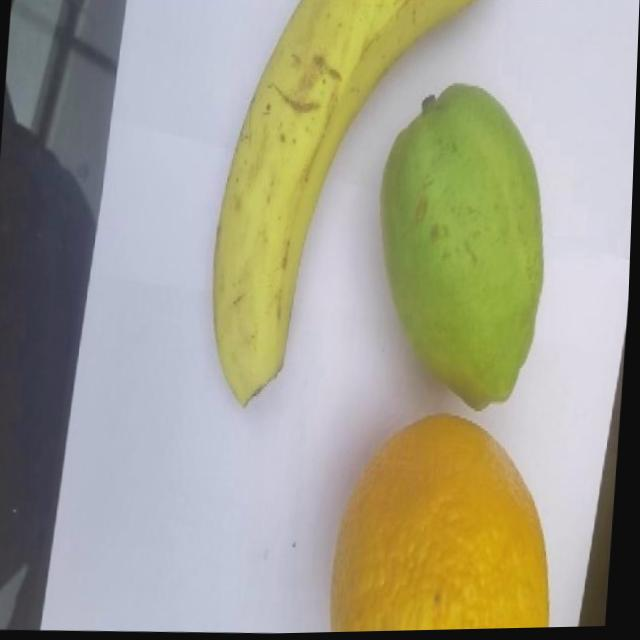Banana: (206, 0, 479, 416)
Orange: (331, 408, 568, 634)
